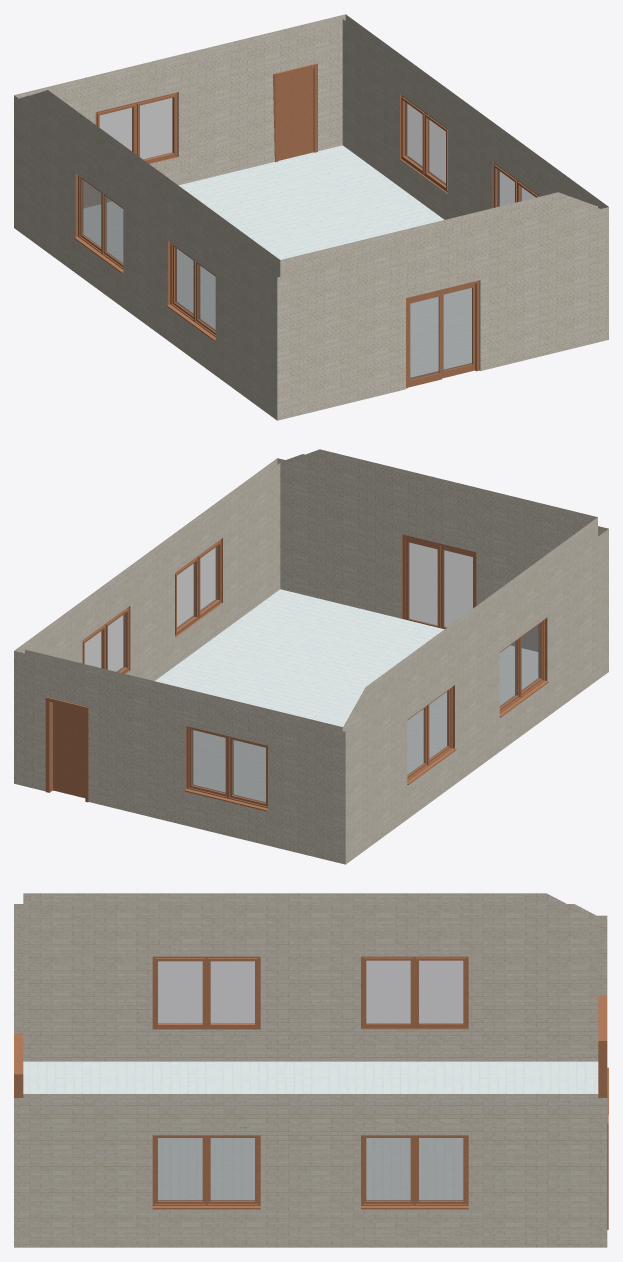
Rendered from telhado43a.gltf.
The picture shows the model from 3 angles, top to bottom: view 1: azimuth 30°, elevation 25°; view 2: azimuth 150°, elevation 25°; view 3: azimuth 270°, elevation 25°; orthographic projection. The views are drawn at different scales.
Parts seen in each view (by area): view 1: root; view 2: root; view 3: root.
Boxes of the visible parts, x1,y1,x2,y2 form: root: [14, 14, 608, 420]; root: [14, 449, 608, 864]; root: [14, 893, 608, 1247].
Size of the model in its own units: 8.06 by 3.6 by 11.03.
6 materials, 3 textured.
